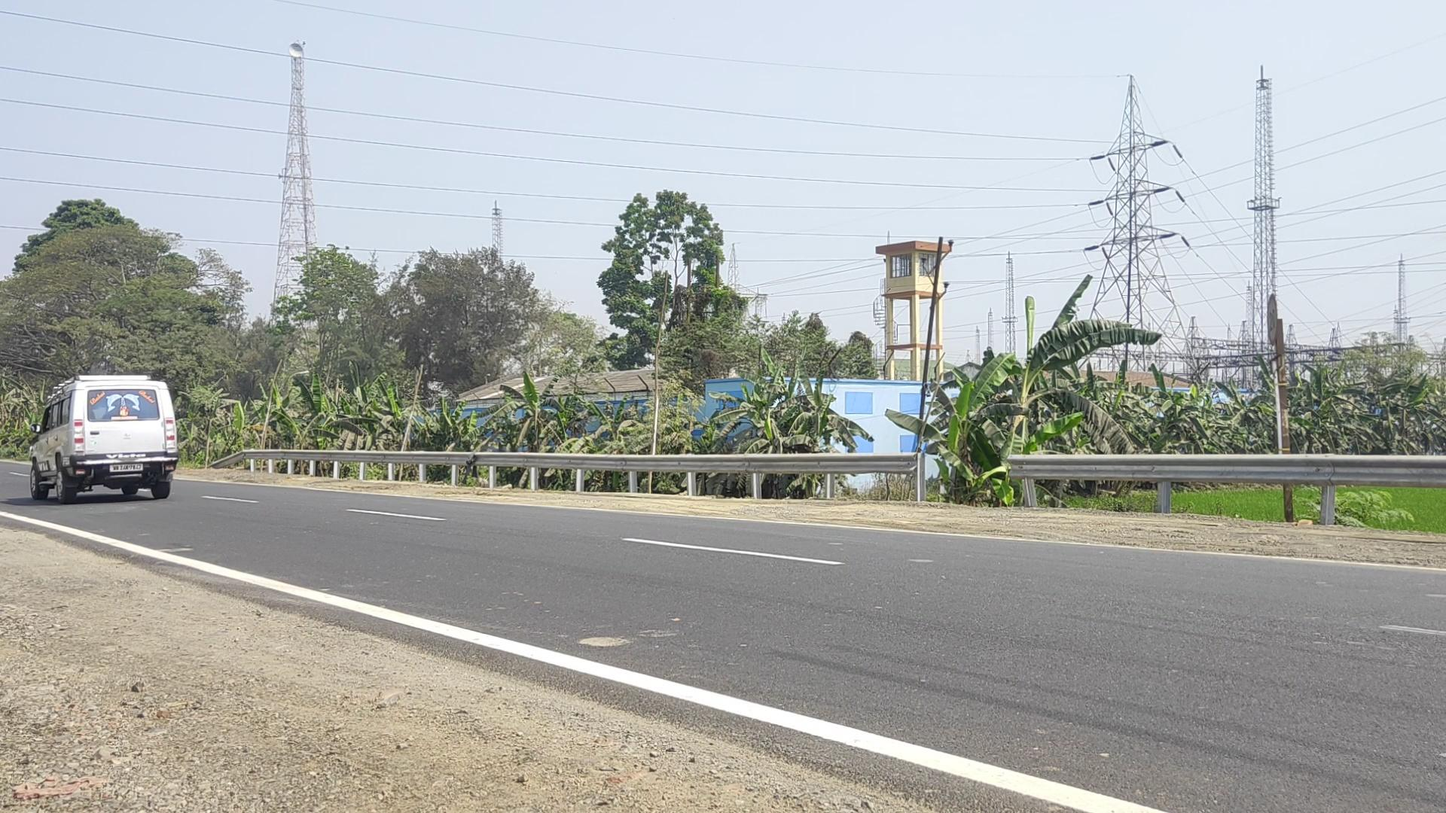car: (29, 374, 179, 505)
